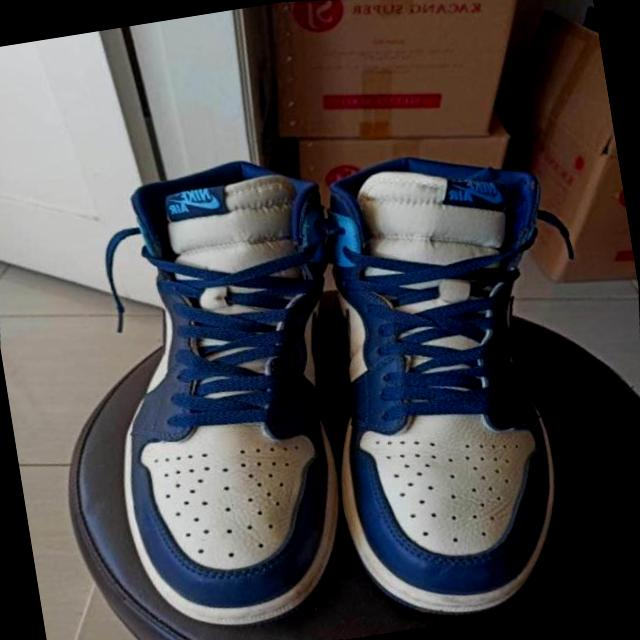nike_original_jordan: (266, 123, 625, 640), (61, 129, 406, 640)
